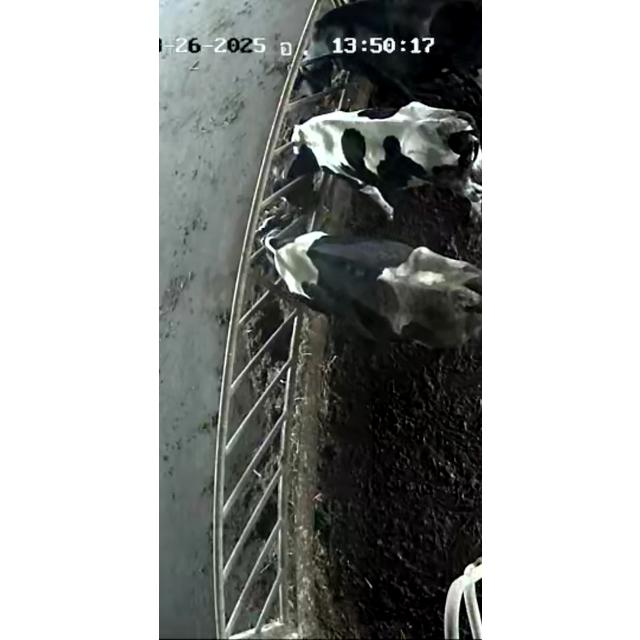eat: (193, 200, 383, 310), (222, 108, 404, 196), (250, 8, 418, 96)
